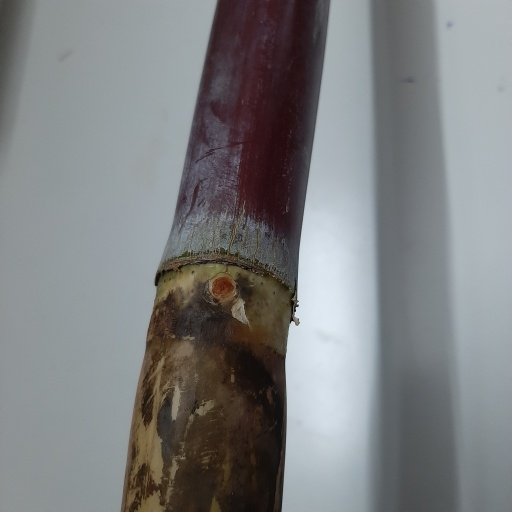Damage_Bud: (208, 273, 238, 304)
